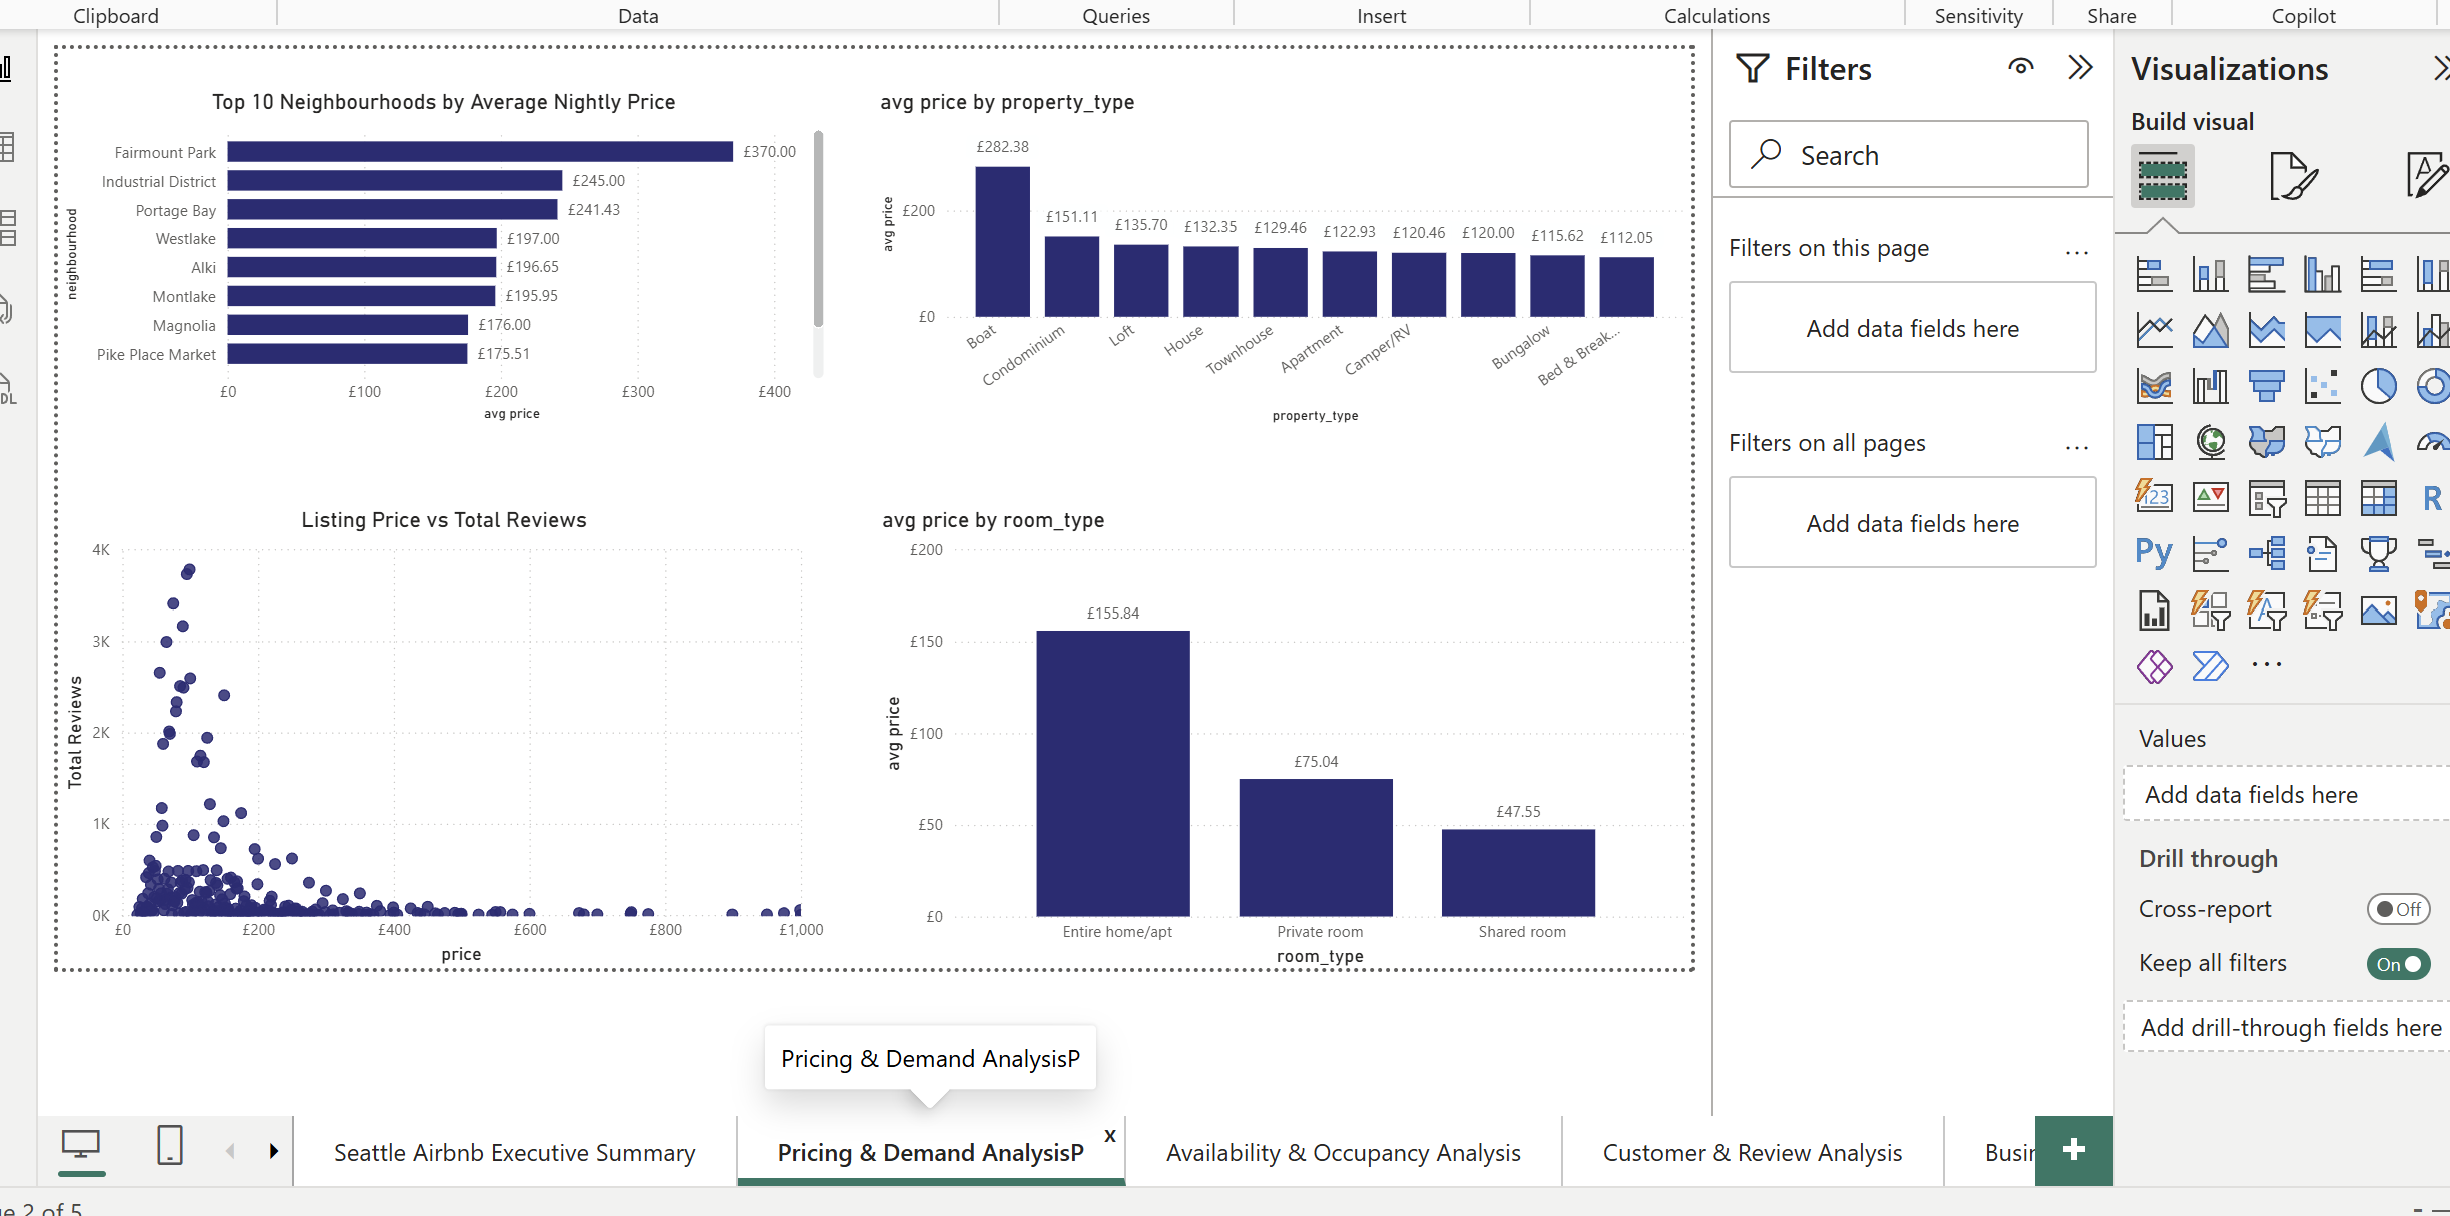

This screenshot's page, from the dashboard's own definition file:
{"tool":"powerbi","page":{"name":"Pricing & Demand AnalysisP","canvas":[1280,720],"ordinal":1},"visuals":[{"type":"clusteredBarChart","title":"Top 10 Neighbourhoods by Average Nightly Price","fields":{"Category":["listings.neighbourhood"],"Y":["calendar.avg price"]},"box":[0,32,605.4,264.8],"z":0},{"type":"lineStackedColumnComboChart","fields":{"Category":["listings.property_type"],"Y":["calendar.avg price"]},"box":[640,31.4,638.4,266.7],"z":1000},{"type":"scatterChart","title":"Listing Price vs Total Reviews","fields":{"X":["listings.price"],"Y":["calendar.Total Reviews"]},"box":[0,359.2,605.7,362.7],"z":2000},{"type":"clusteredColumnChart","fields":{"Category":["listings.room_type"],"Y":["calendar.avg price"]},"box":[641.6,359.2,638.4,363.9],"z":3000}]}

Visuals, with their boxes on the page's 1280x720 design canvas (x1, y1, x2, y2). These are canvas units, not pixel positions in the 2450x1216 screenshot, which may show the page scaled, cropped or inside an application window:
"Top 10 Neighbourhoods by Average Nightly Price" clusteredBarChart: (left=0, top=32, right=605, bottom=297)
lineStackedColumnComboChart - listings.property_type x calendar.avg price: (left=640, top=31, right=1278, bottom=298)
"Listing Price vs Total Reviews" scatterChart: (left=0, top=359, right=606, bottom=722)
clusteredColumnChart - listings.room_type x calendar.avg price: (left=642, top=359, right=1280, bottom=723)
